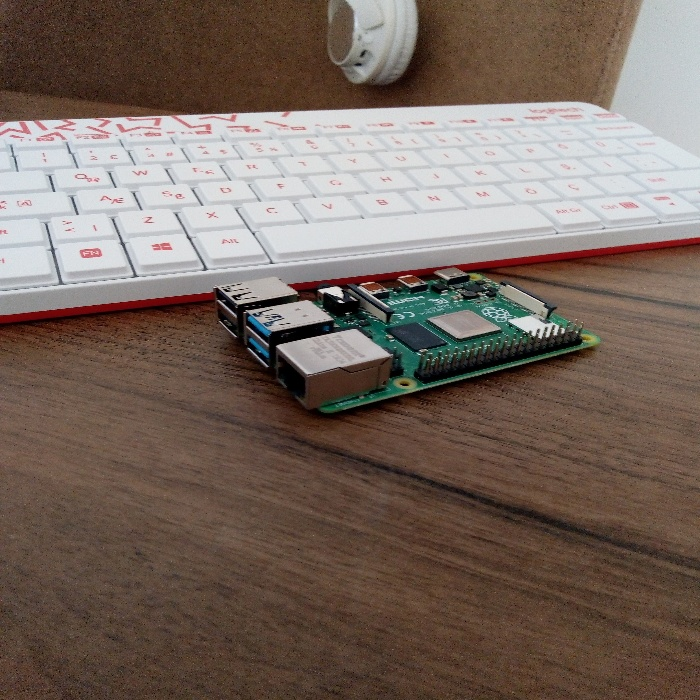raspberry: (186, 249, 599, 437)
